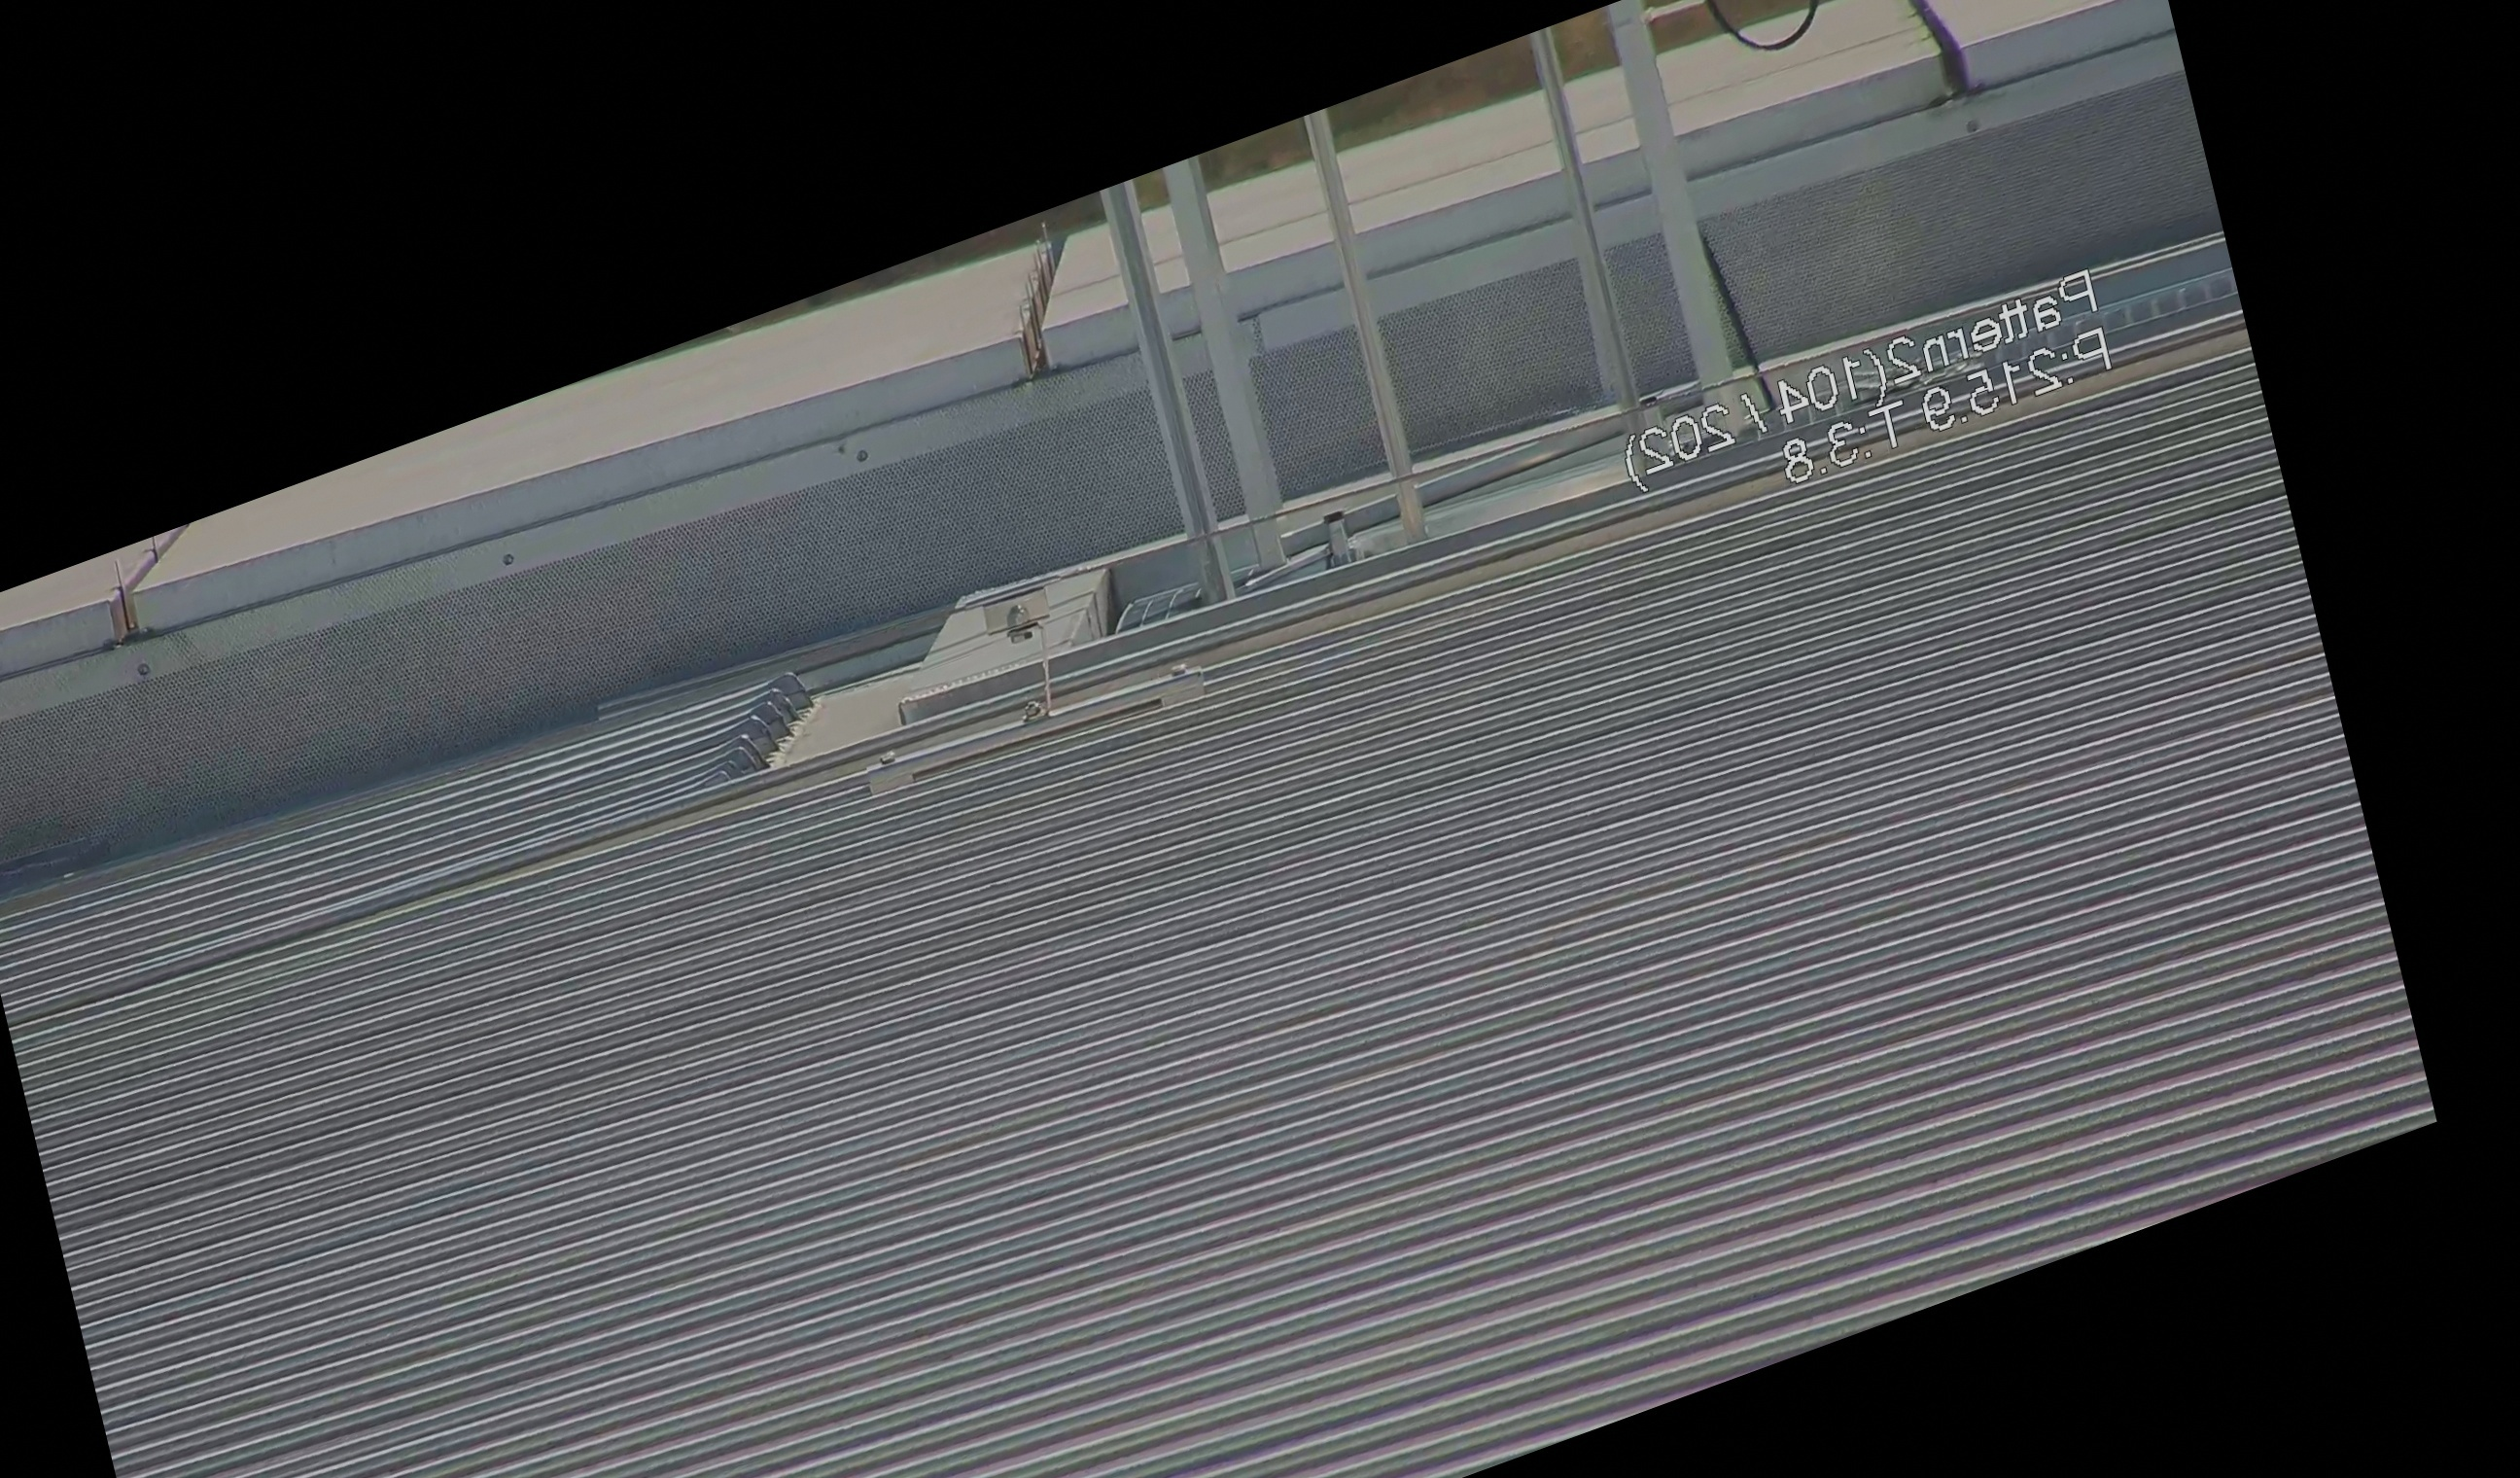Other: (1632, 0, 1852, 93)
